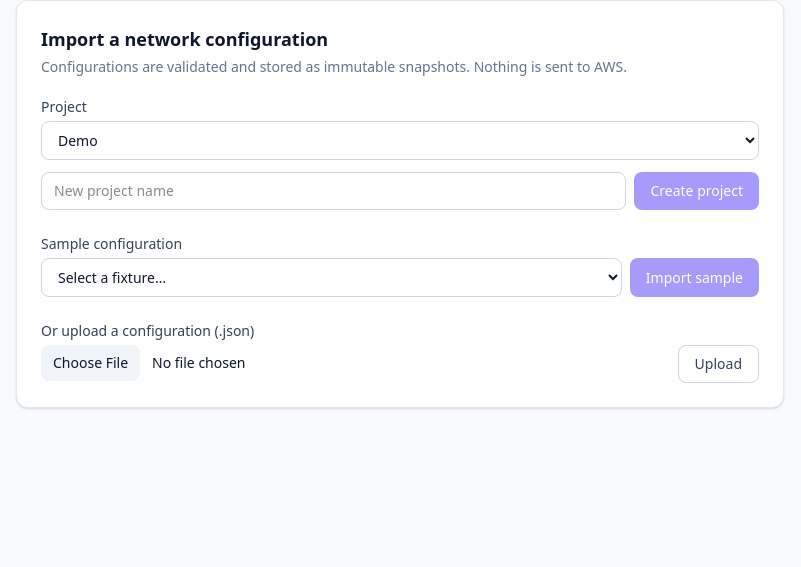
Test: ImportPage › lists every validation problem when the backend rejects a configuration
Select "Safe network" in the dropdown labelled "Sample configuration" at (331, 278), box [41,258,622,297]
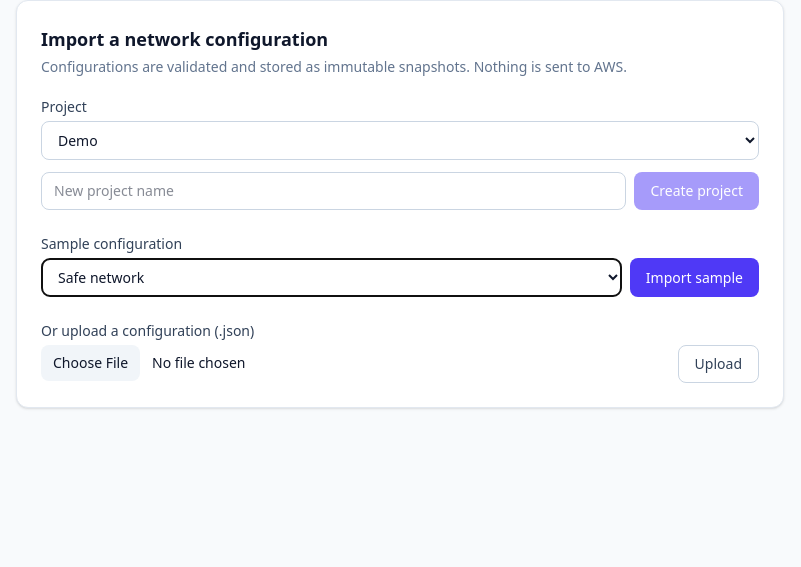
Click the button "Import sample" at (694, 278), box [630,258,759,297]
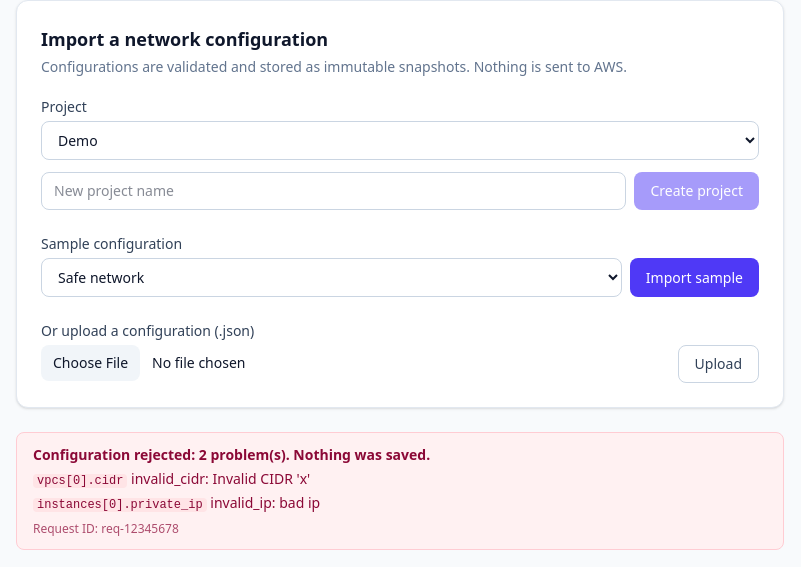
Now the message shows "2 problem(s). Nothing was saved.", box [33,445,430,464]
Now the message shows "vpcs[0].cidr", box [37,474,123,488]
Now the message shows "invalid_ip", box [210,493,272,512]
